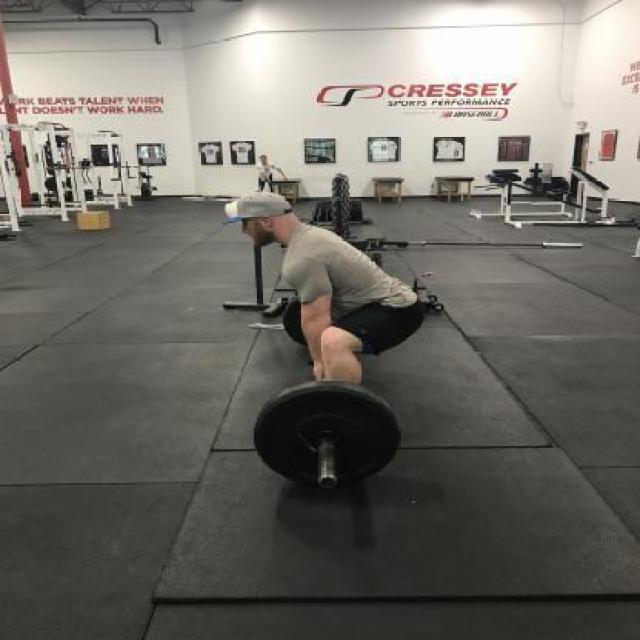barbell: (252, 379, 406, 500)
